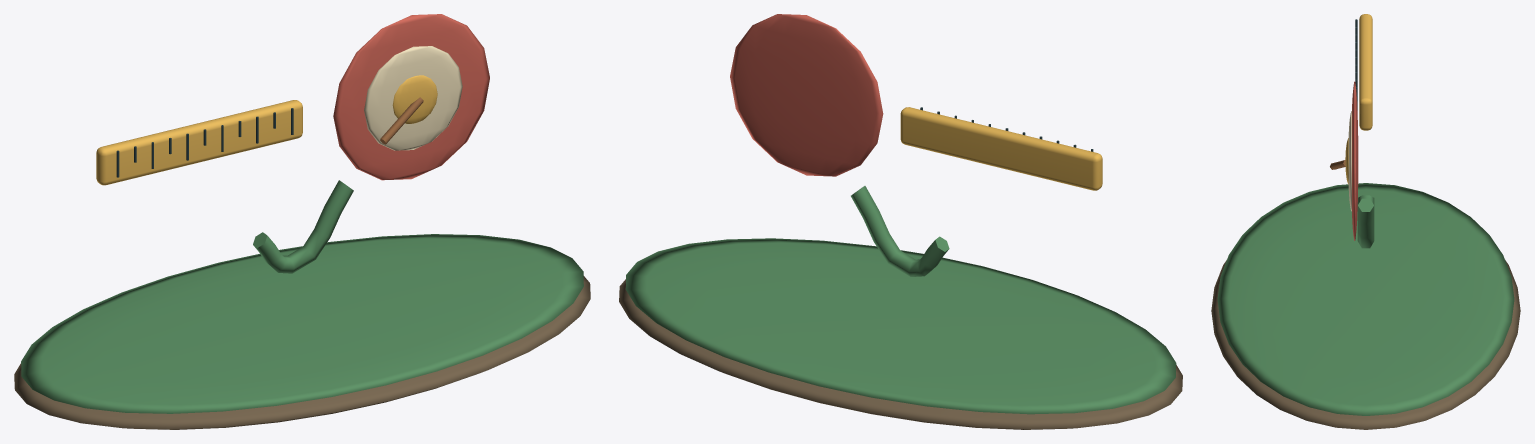
The model's file is complete-second-marked-accuracy.glb.
3 views of the same model, side by side, from view 1: azimuth 30°, elevation 25°; view 2: azimuth 150°, elevation 25°; view 3: azimuth 270°, elevation 25° (orthographic). The views are drawn at different scales.
Visible parts, largest first — view 1: complete-second-marked-accuracy_surface_01, complete-second-marked-accuracy_surface_04, complete-second-marked-accuracy_surface_00, complete-second-marked-accuracy_surface_02, complete-second-marked-accuracy_surface_05, complete-second-marked-accuracy_surface_03; view 2: complete-second-marked-accuracy_surface_01, complete-second-marked-accuracy_surface_04, complete-second-marked-accuracy_surface_00, complete-second-marked-accuracy_surface_02; view 3: complete-second-marked-accuracy_surface_01, complete-second-marked-accuracy_surface_00, complete-second-marked-accuracy_surface_02, complete-second-marked-accuracy_surface_04, complete-second-marked-accuracy_surface_05.
Part boxes in pixels (<box>): complete-second-marked-accuracy_surface_01: <box>21,180,583,413</box>; complete-second-marked-accuracy_surface_04: <box>333,14,489,180</box>; complete-second-marked-accuracy_surface_00: <box>14,276,590,429</box>; complete-second-marked-accuracy_surface_02: <box>96,75,437,185</box>; complete-second-marked-accuracy_surface_05: <box>364,46,462,150</box>; complete-second-marked-accuracy_surface_03: <box>116,108,293,177</box>; complete-second-marked-accuracy_surface_01: <box>625,186,1176,414</box>; complete-second-marked-accuracy_surface_04: <box>730,14,883,176</box>; complete-second-marked-accuracy_surface_00: <box>619,279,1182,429</box>; complete-second-marked-accuracy_surface_02: <box>900,107,1102,190</box>; complete-second-marked-accuracy_surface_01: <box>1217,183,1514,415</box>; complete-second-marked-accuracy_surface_00: <box>1211,260,1520,429</box>; complete-second-marked-accuracy_surface_02: <box>1345,14,1372,184</box>; complete-second-marked-accuracy_surface_04: <box>1352,81,1358,240</box>; complete-second-marked-accuracy_surface_05: <box>1348,111,1351,211</box>.
Size of the model in its own units: 4.56 by 2.51 by 2.5.
